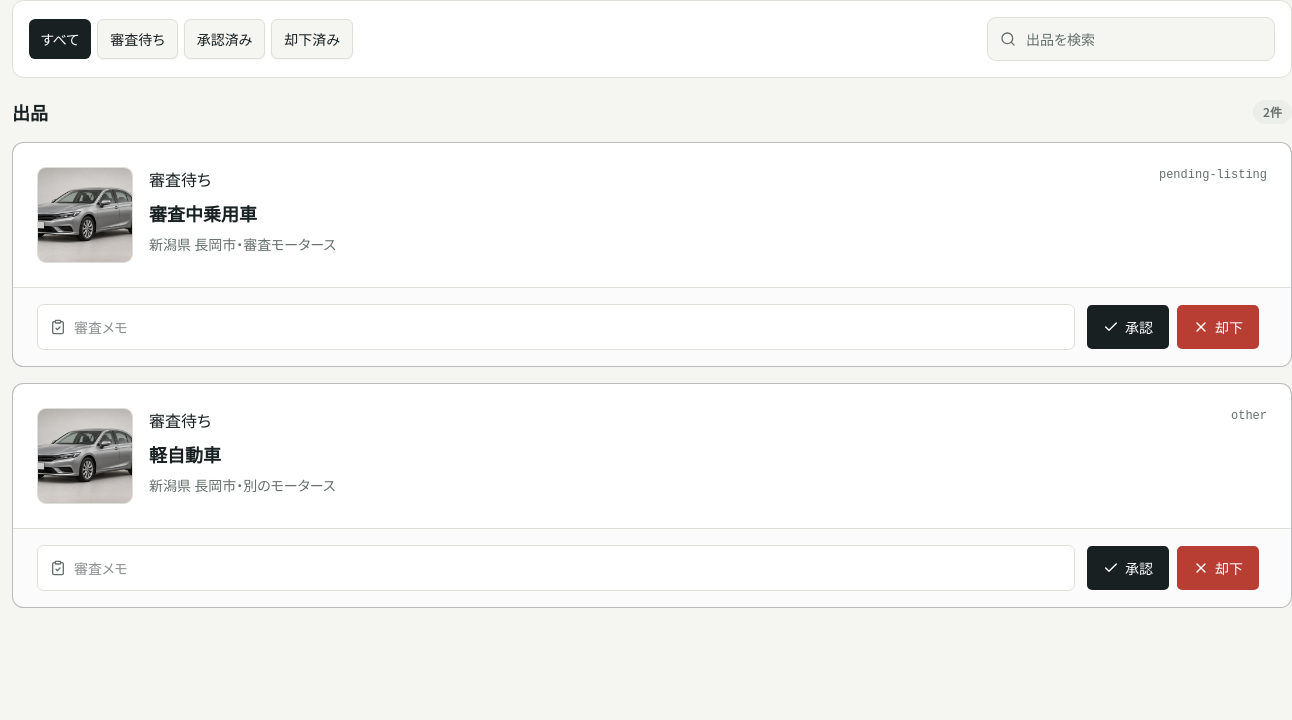
Test: AdminQueue › searches the selected queue without losing review actions
The width and height of the screenshot is (1292, 720).
In the search field labelled "出品を検索": (1144, 39) [1026, 29, 1262, 49], type "審査モータース"
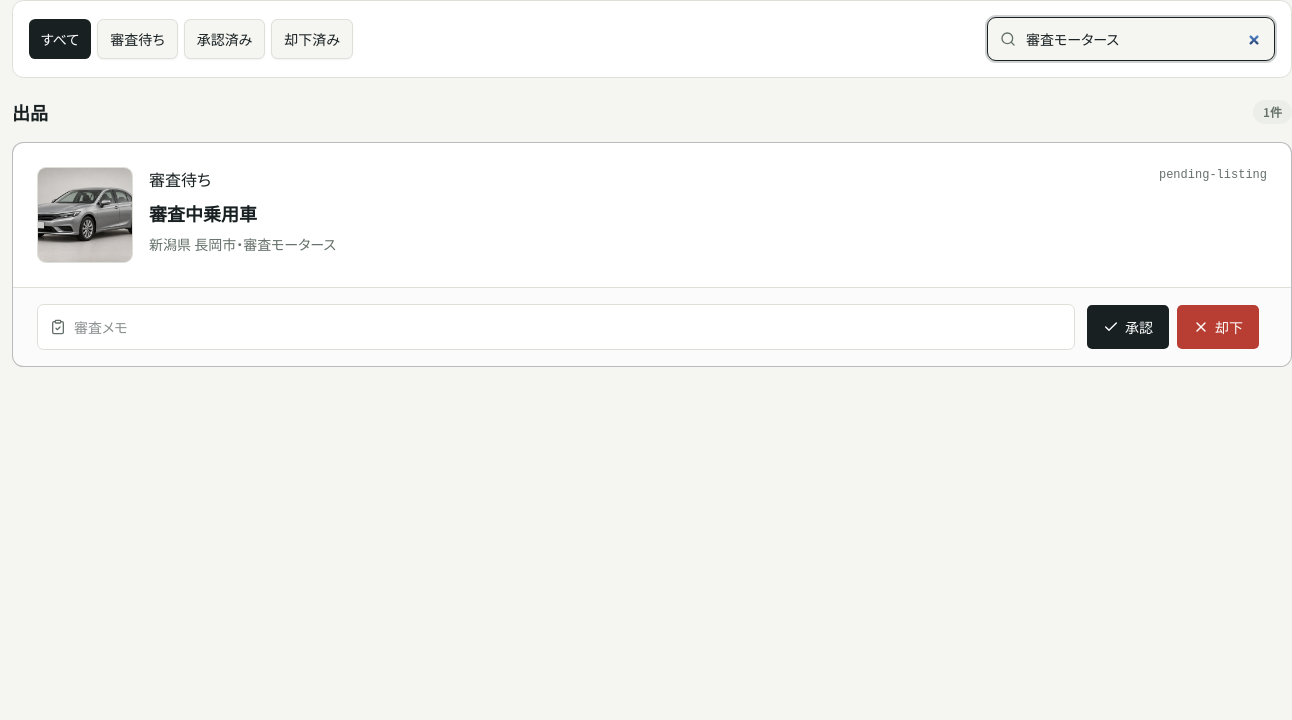
Check: the heading "審査中乗用車" is shown, box [149, 200, 257, 226]
Check: the heading "軽自動車" is gone
Clear the search field named "出品を検索": (1144, 39) [1026, 29, 1262, 49]
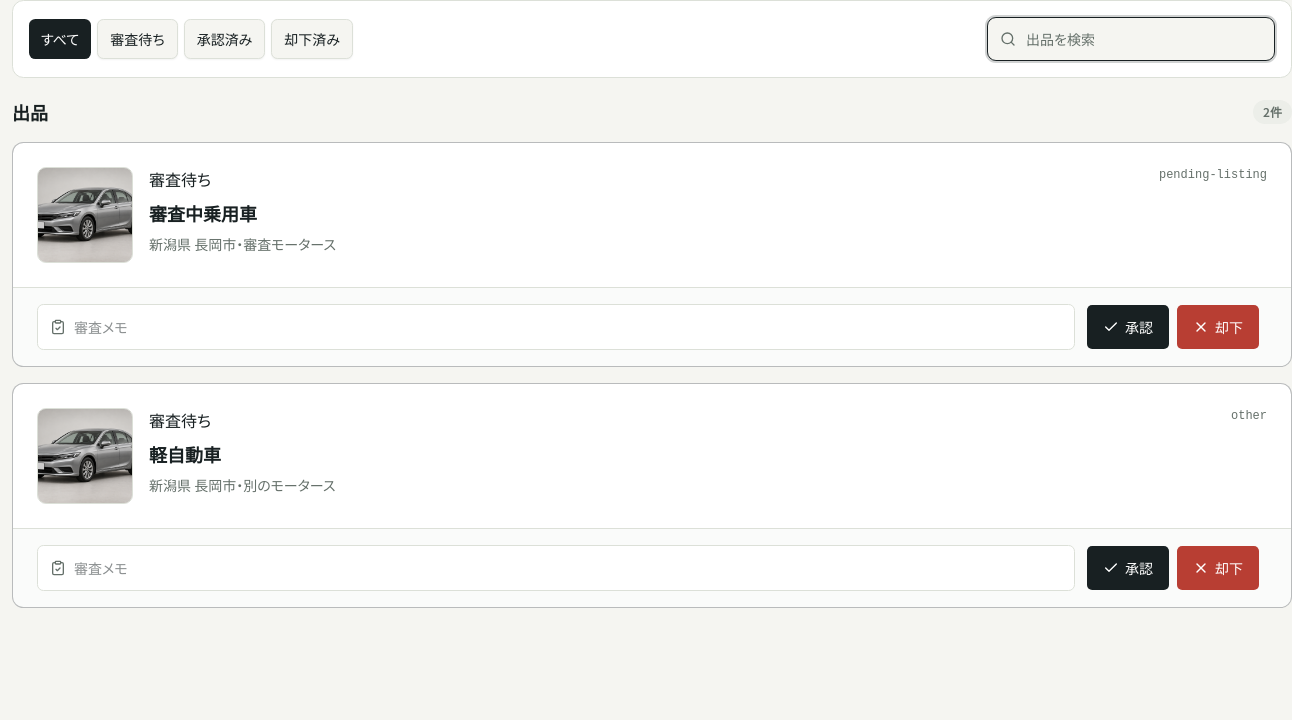
Check: the heading "軽自動車" is shown, box [149, 441, 221, 467]
